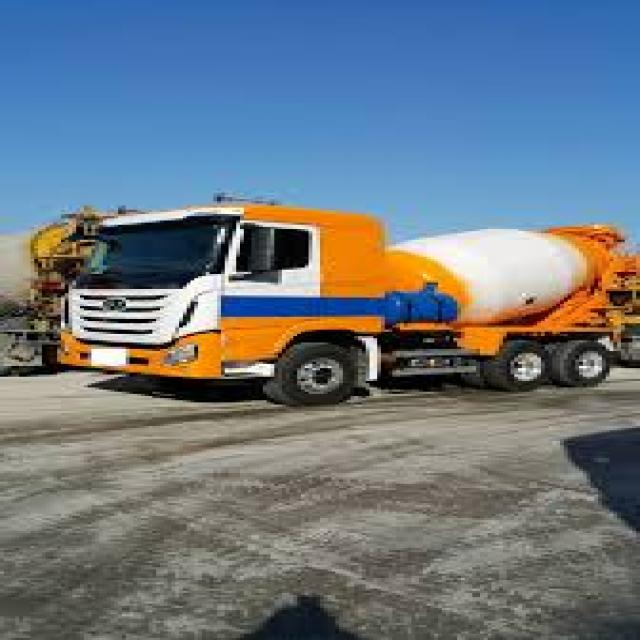Mixer Truck: (53, 201, 630, 409), (0, 204, 157, 379)
